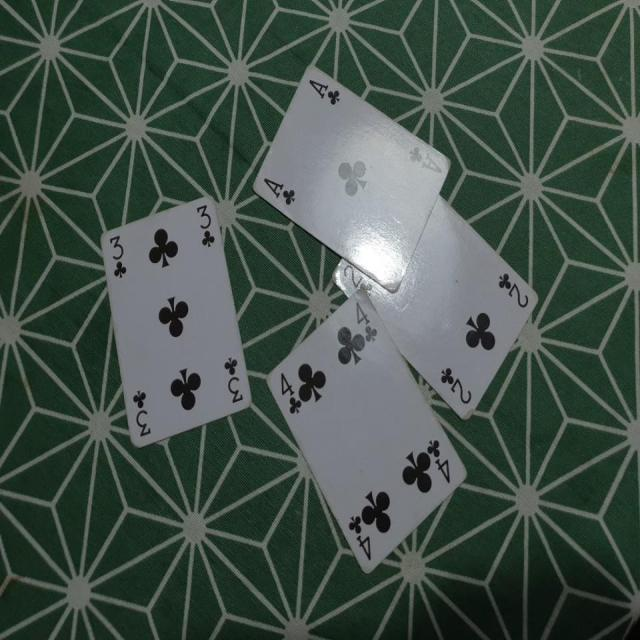2 Trefoils: (332, 193, 542, 422)
3 Trefoils: (99, 194, 254, 447)
4 Trefoils: (266, 288, 468, 577)
A Trefoils: (249, 62, 452, 297)
